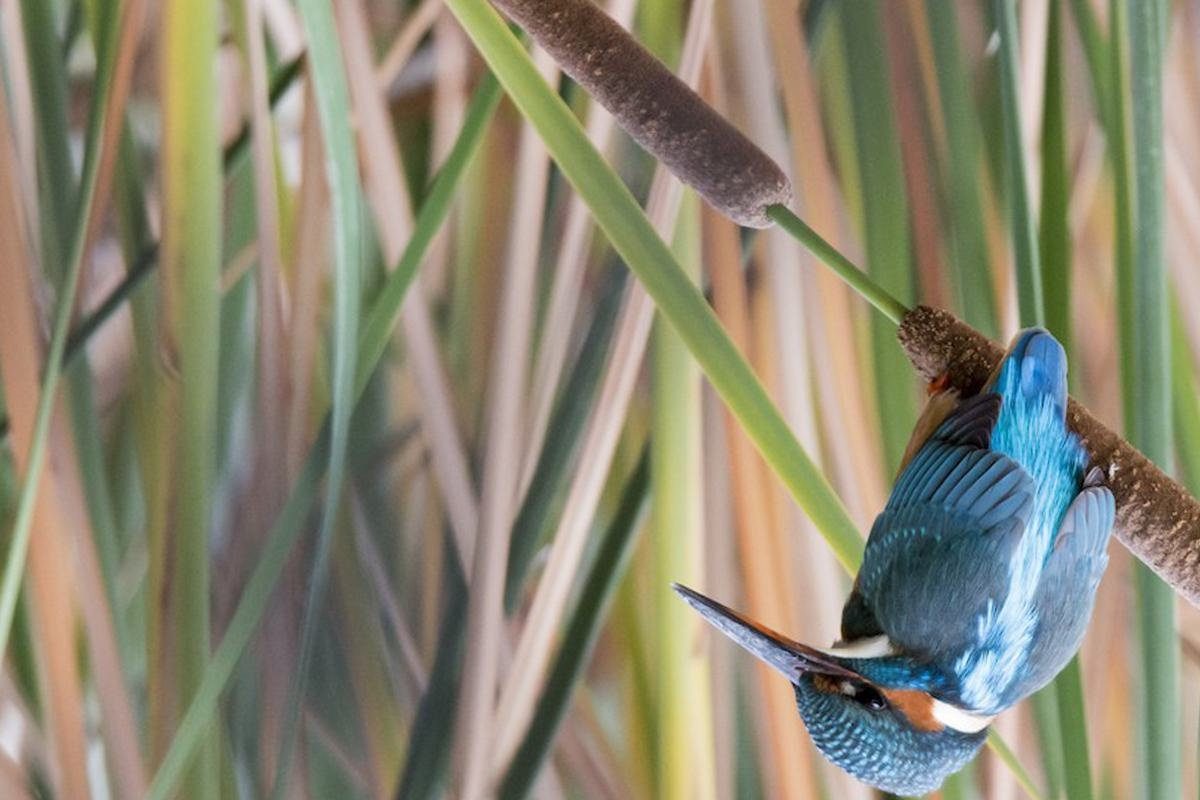kingfisher: (647, 318, 1145, 800)
